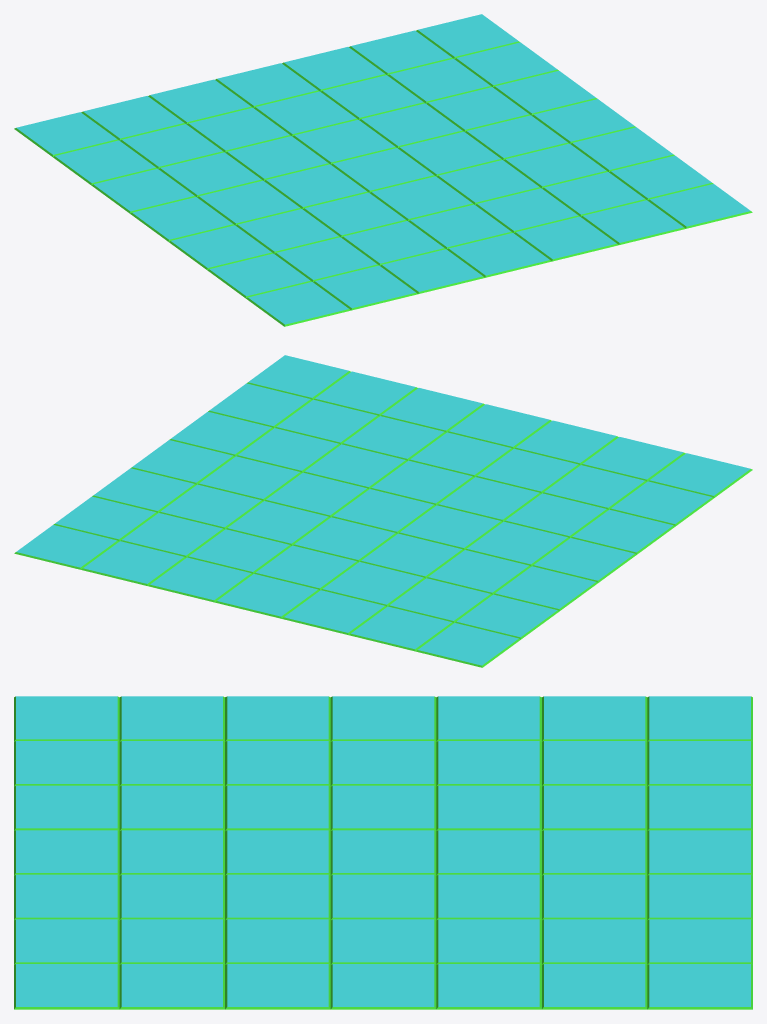
Rendered from Floor_08_Middle_B.fbx.
3 views of the same model, one above another, from view 1: azimuth 30°, elevation 25°; view 2: azimuth 150°, elevation 25°; view 3: azimuth 270°, elevation 25° (orthographic). The views are drawn at different scales.
Parts seen in each view (by area): view 1: Floor_08_Middle_B; view 2: Floor_08_Middle_B; view 3: Floor_08_Middle_B.
Part boxes in pixels (x1,y1,x2,y2): Floor_08_Middle_B: (14, 14, 752, 326); Floor_08_Middle_B: (14, 355, 752, 667); Floor_08_Middle_B: (14, 696, 752, 1009).
Size of the model in its own units: 457 by 1.27 by 457.
